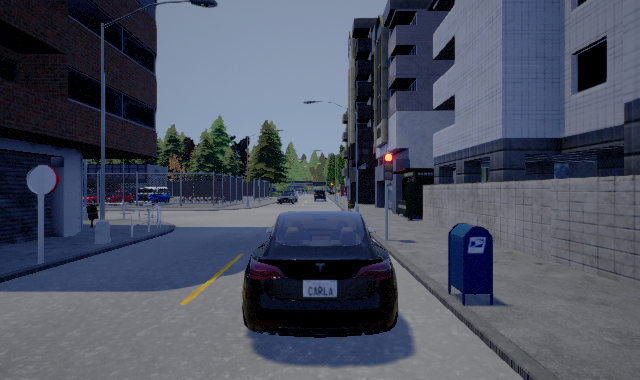traffic_light: (383, 151, 393, 181)
vehicle: (242, 211, 398, 338), (136, 187, 172, 205), (278, 191, 297, 204), (314, 188, 326, 198)
